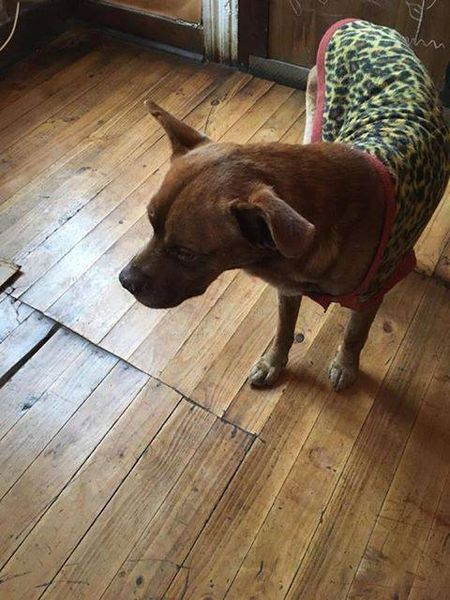dog: (117, 18, 442, 405)
